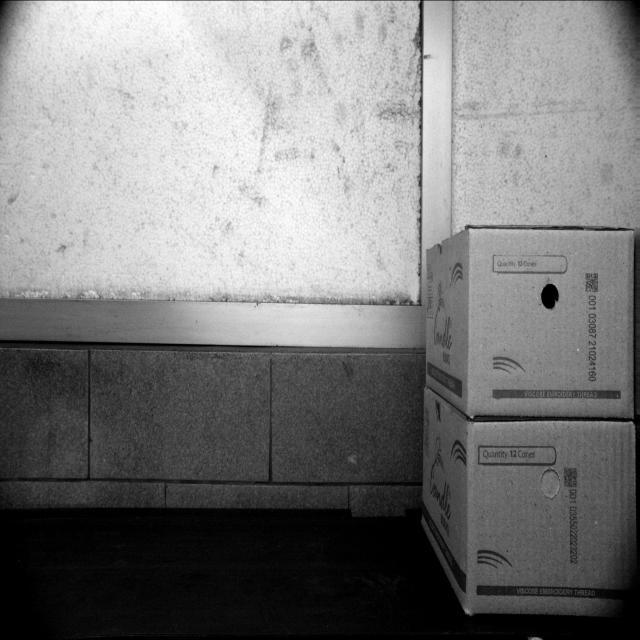box: (466, 422, 634, 620), (466, 228, 633, 416)
